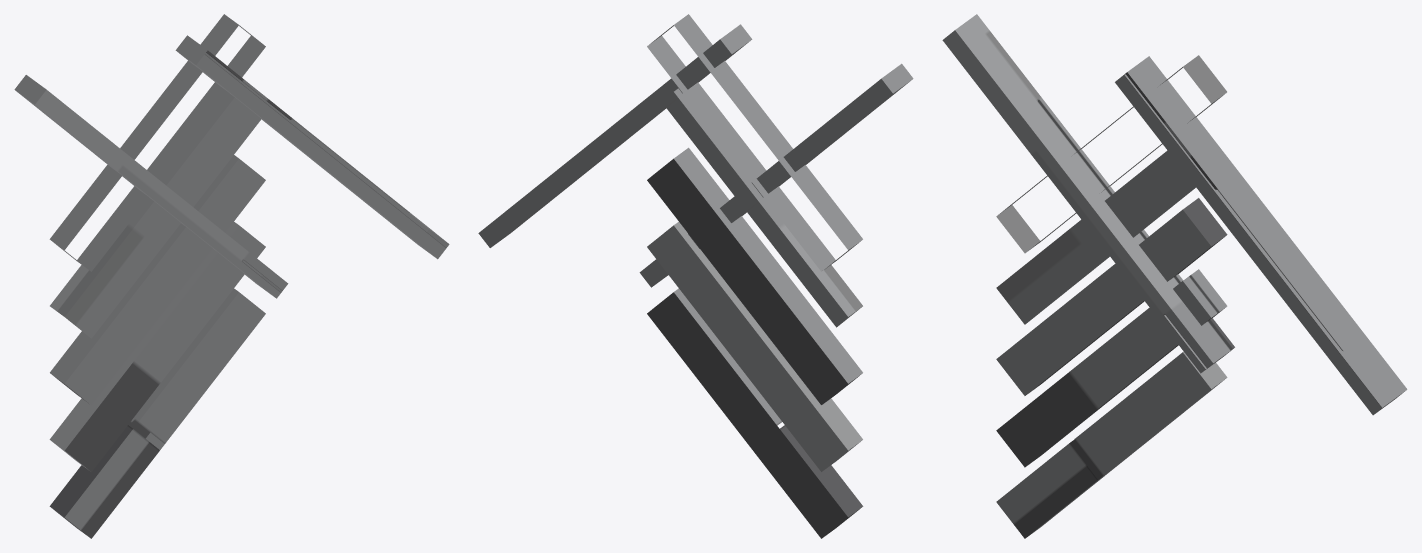
3 renders of one model, left to right at view 1: azimuth 30°, elevation 25°; view 2: azimuth 150°, elevation 25°; view 3: azimuth 330°, elevation 25°, orthographic. The views are drawn at different scales.
Size of the model in its own units: 0.7423 by 0.8174 by 0.0786.
